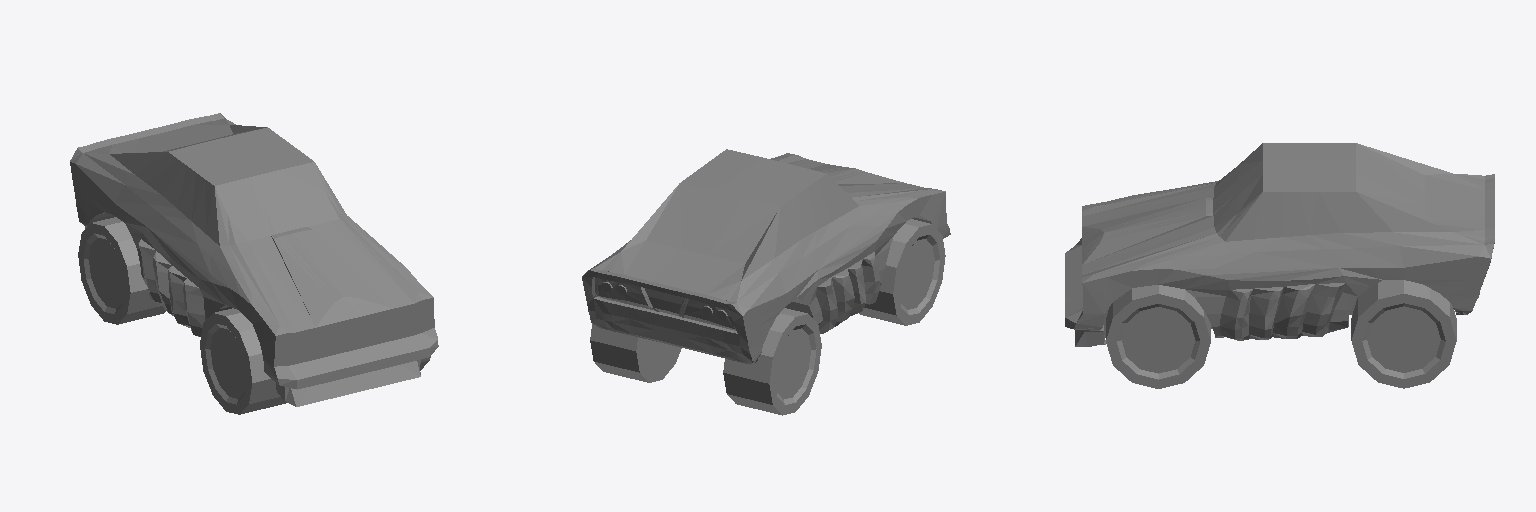
The model's file is firecar.obj.
3 views of the same model, side by side, from view 1: azimuth 30°, elevation 25°; view 2: azimuth 150°, elevation 25°; view 3: azimuth 270°, elevation 25° (orthographic).
Parts seen in each view (by area): view 1: Cube, roueArr_Cylinder.001, roueL_Cylinder.003; view 2: Cube, roueArr_Cylinder.001, roueL_Cylinder.003; view 3: Cube, roueArr_Cylinder.001, roueR_Cylinder.004.
Boxes of the visible parts, x1,y1,x2,y2 form: Cube: [70, 113, 438, 406]; roueArr_Cylinder.001: [78, 217, 165, 324]; roueL_Cylinder.003: [200, 308, 286, 414]; Cube: [582, 149, 950, 364]; roueArr_Cylinder.001: [590, 308, 821, 415]; roueL_Cylinder.003: [859, 219, 945, 325]; Cube: [1065, 143, 1494, 346]; roueArr_Cylinder.001: [1351, 280, 1456, 388]; roueR_Cylinder.004: [1106, 285, 1210, 388].
Size of the model in its own units: 1.91 by 1.77 by 3.87.